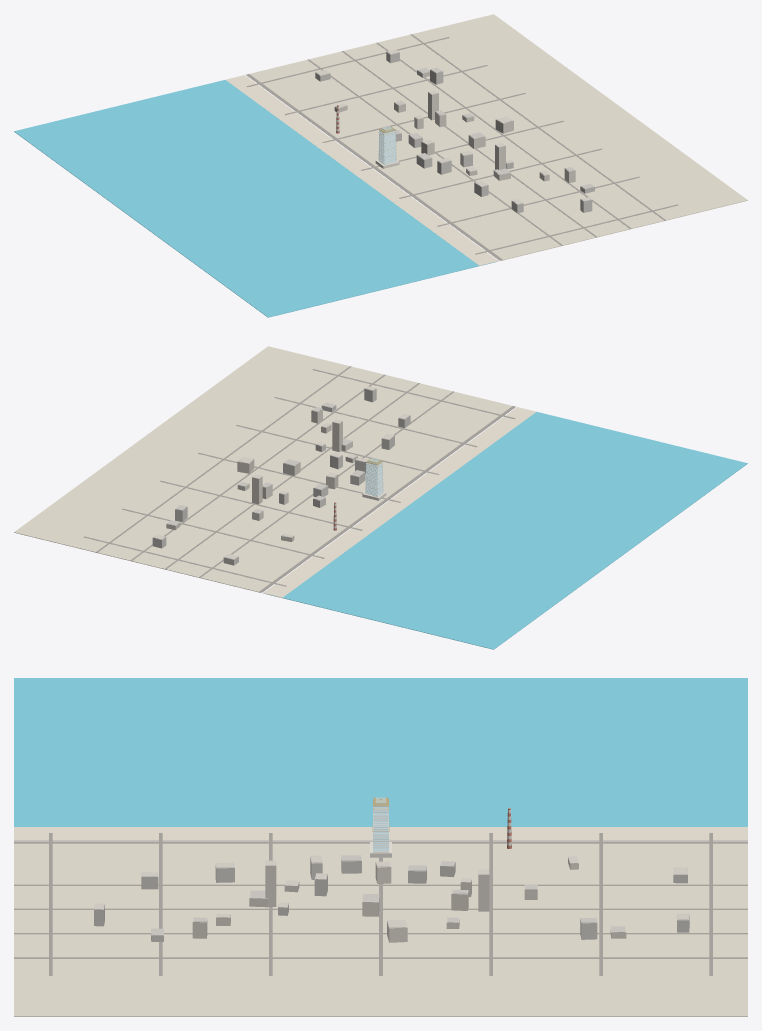
The model's file is dimri.glb.
3 renders of one model, top to bottom at view 1: azimuth 30°, elevation 25°; view 2: azimuth 150°, elevation 25°; view 3: azimuth 270°, elevation 25°, orthographic. The views are drawn at different scales.
Visible parts, largest first — view 1: scene; view 2: scene; view 3: scene.
Part boxes in pixels (<box>): scene: <box>14,14,747,317</box>; scene: <box>14,346,747,649</box>; scene: <box>14,678,747,1016</box>.
Size of the model in its own units: 1090 by 81 by 1000.
